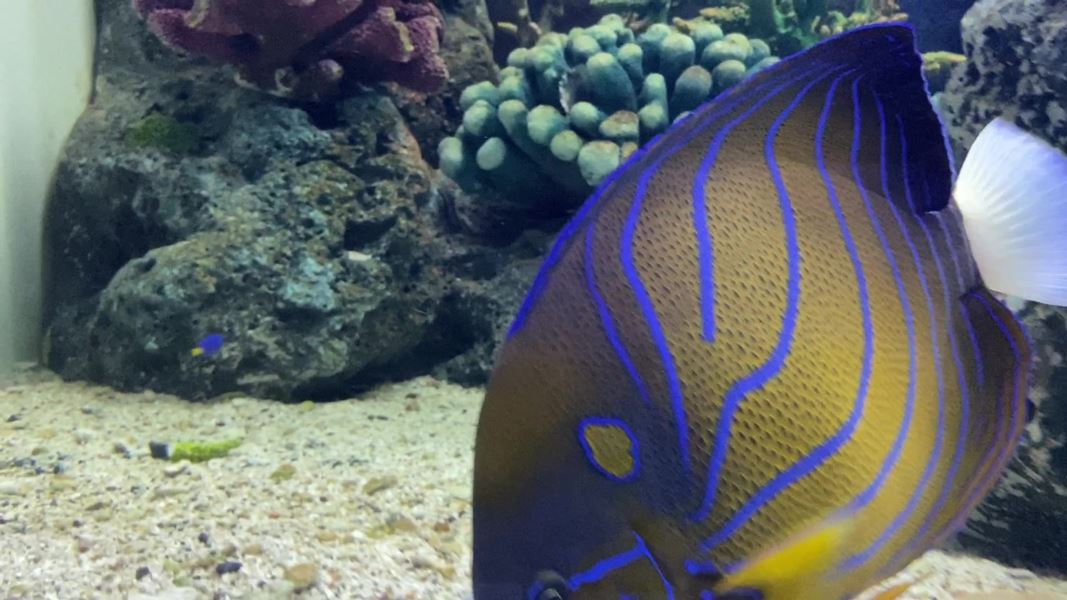Blue ring angelfish: (414, 14, 1047, 593)
